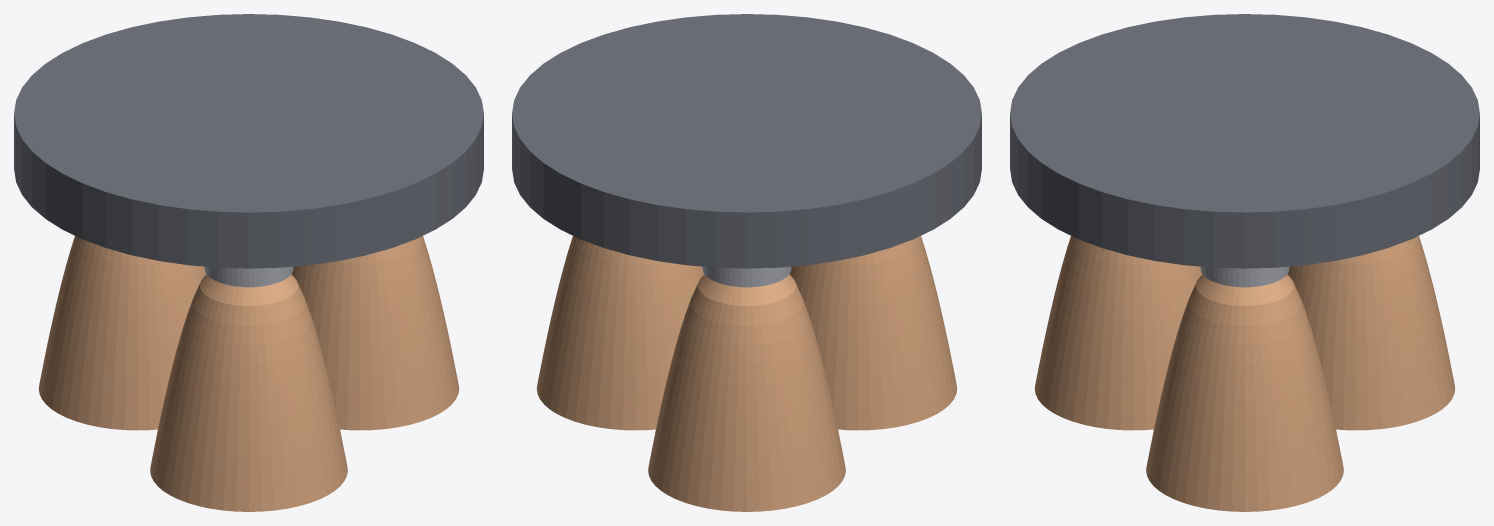
The model's file is engine_cluster3.glb.
3 views of the same model, side by side, from view 1: azimuth 30°, elevation 25°; view 2: azimuth 150°, elevation 25°; view 3: azimuth 270°, elevation 25° (orthographic).
Visible parts, largest first — view 1: engine_cluster3_0, engine_cluster3_4, engine_cluster3_6, engine_cluster3_2, engine_cluster3_3; view 2: engine_cluster3_0, engine_cluster3_6, engine_cluster3_4, engine_cluster3_2, engine_cluster3_5; view 3: engine_cluster3_0, engine_cluster3_2, engine_cluster3_4, engine_cluster3_6, engine_cluster3_1.
Boxes of the visible parts, x1,y1,x2,y2 form: engine_cluster3_0: (14, 14, 483, 268); engine_cluster3_4: (150, 274, 347, 511); engine_cluster3_6: (38, 236, 206, 430); engine_cluster3_2: (291, 236, 459, 430); engine_cluster3_3: (204, 266, 293, 287); engine_cluster3_0: (512, 14, 981, 268); engine_cluster3_6: (648, 274, 845, 511); engine_cluster3_4: (789, 236, 957, 430); engine_cluster3_2: (536, 236, 704, 430); engine_cluster3_5: (702, 266, 791, 287); engine_cluster3_0: (1010, 14, 1479, 268); engine_cluster3_2: (1146, 274, 1343, 511); engine_cluster3_4: (1034, 236, 1202, 430); engine_cluster3_6: (1287, 236, 1455, 430); engine_cluster3_1: (1200, 266, 1289, 287).
Bounding box in the file's own units: 1.9 × 1.35 × 1.9.
